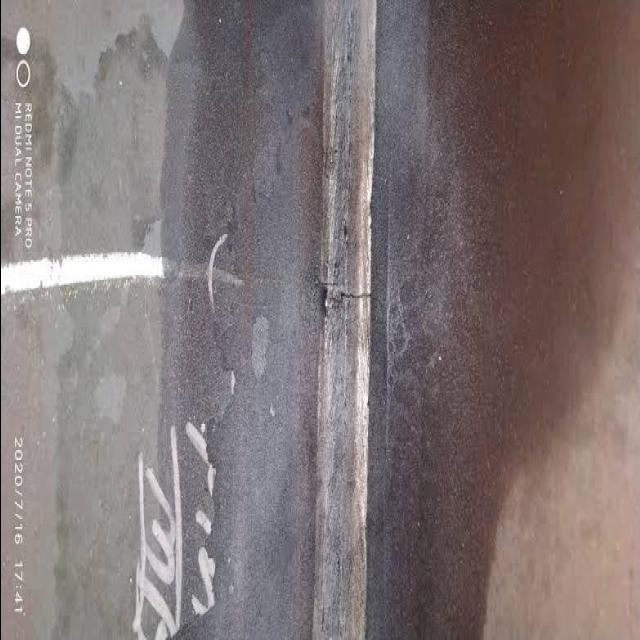defect: (327, 287, 371, 312)
